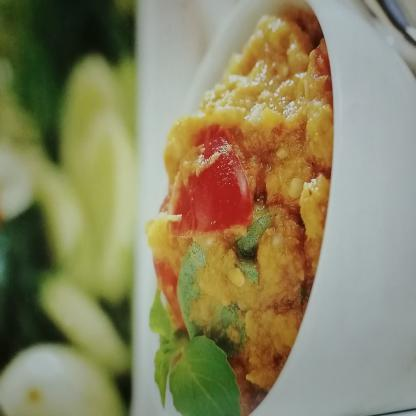Namprig: (139, 14, 355, 411)
